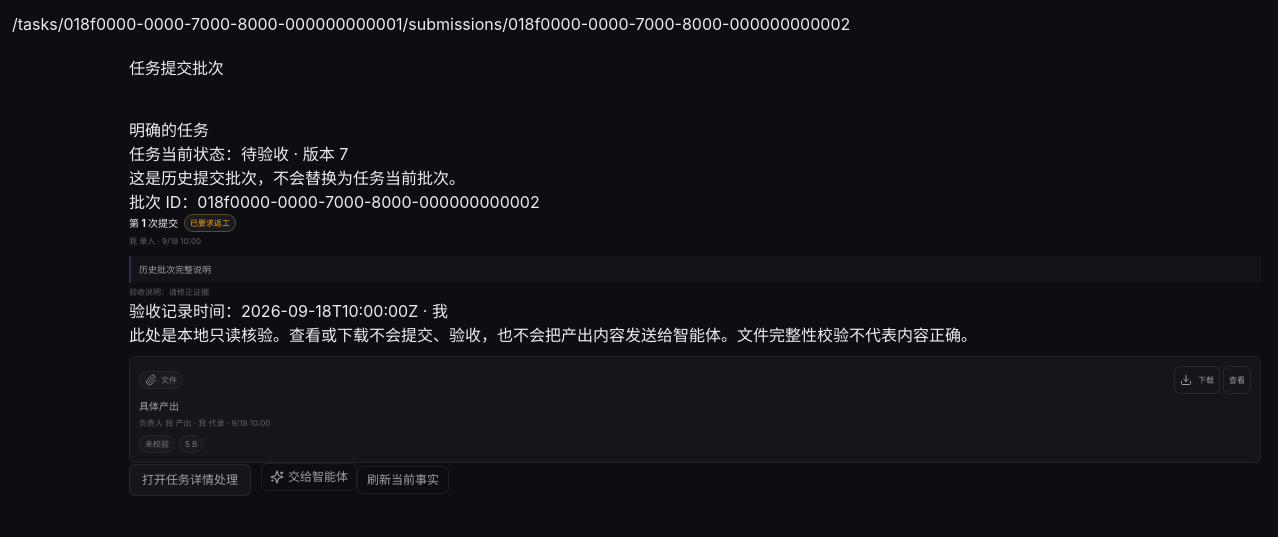
Test: exact submission navigation › reports a missing file only after an explicit download click
Check: the text "历史批次完整说明" is shown, box [129,256,1261,283]
Click the button with aria-label "下载产出" at x=1197, y=380, box [1174,366,1220,394]
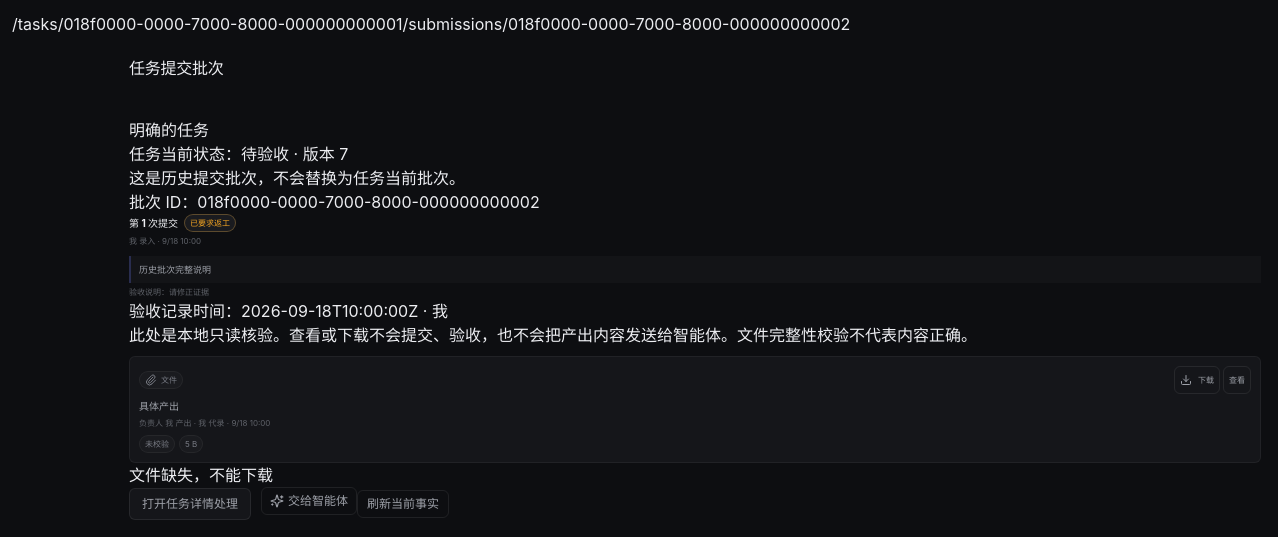
Check: the text "文件缺失，不能下载" is shown, box [129,465,273,485]
